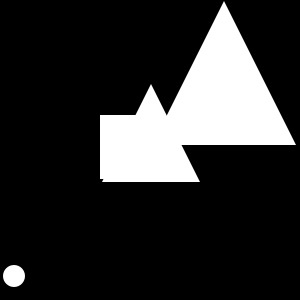circle: (100, 115, 164, 179)
rectangle: (100, 140, 126, 166), (3, 265, 25, 287)
triangle: (152, 1, 296, 145), (102, 84, 200, 182)
